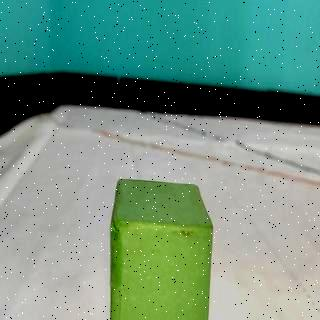greenbox: (108, 175, 216, 320)
